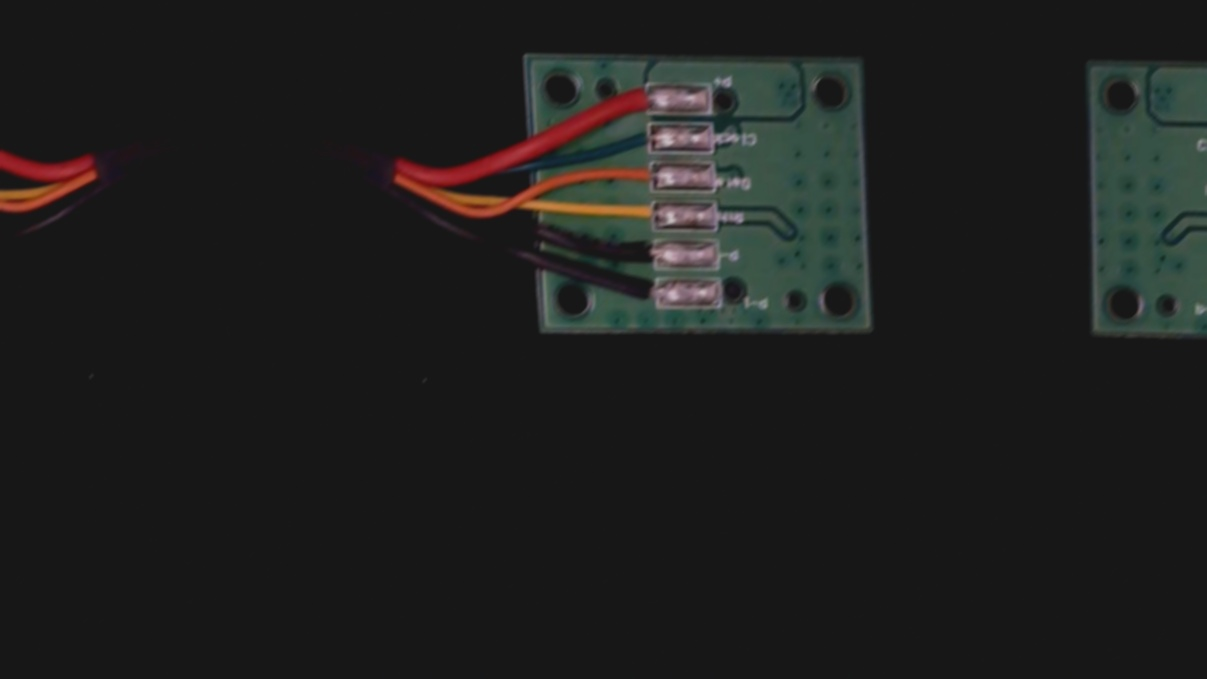Black: (604, 239, 673, 270)
Black1: (613, 279, 675, 308)
Green: (603, 121, 667, 152)
Orange: (604, 161, 669, 190)
Red: (589, 83, 662, 116)
Yellow: (600, 201, 673, 230)
